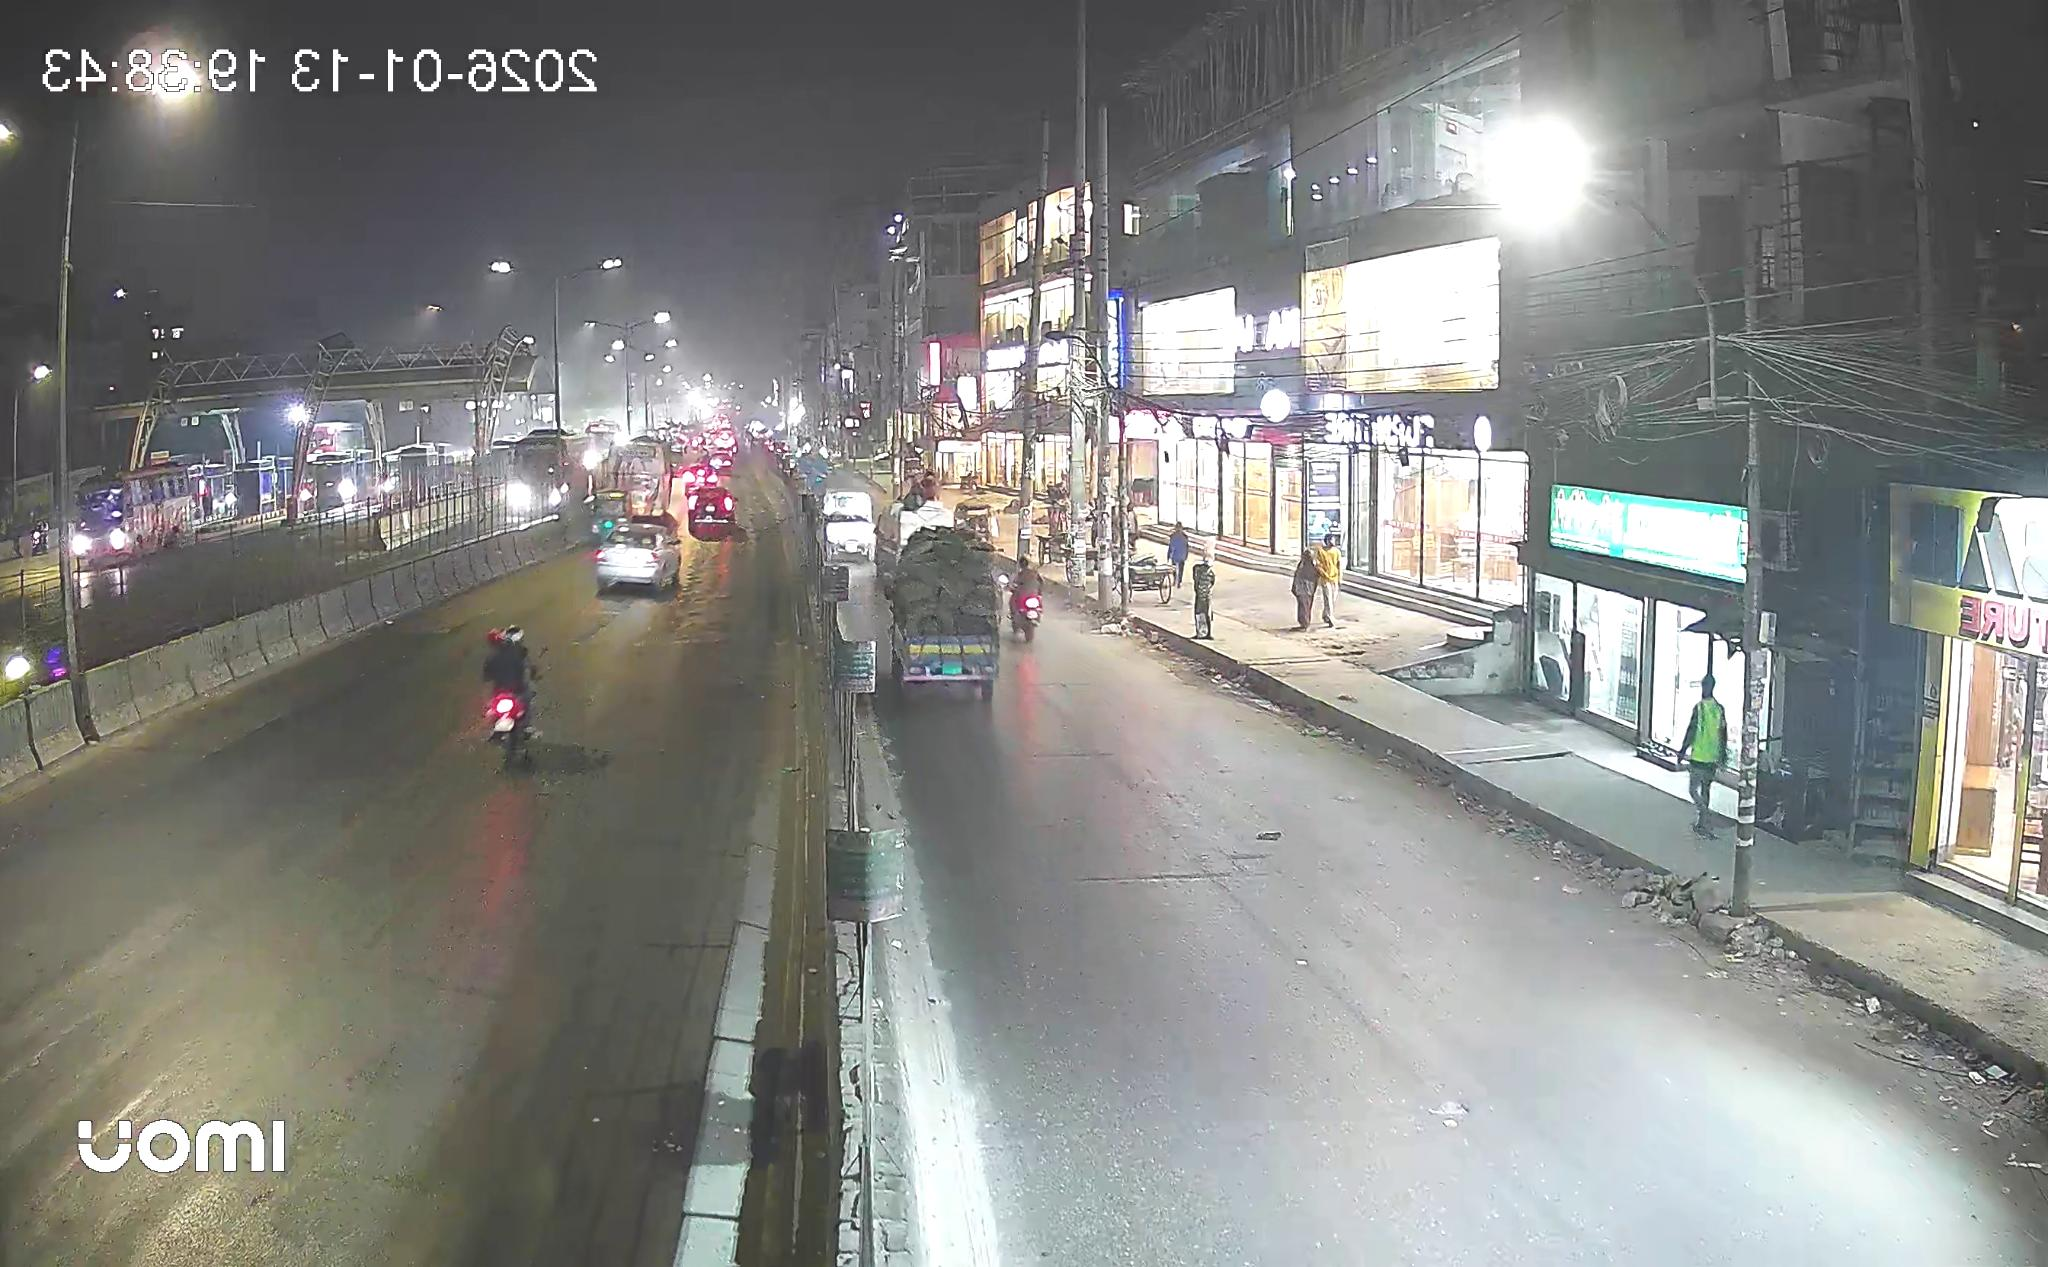Motorcycle: (484, 625, 537, 761), (1009, 563, 1042, 642)
Private-Sedan Car: (597, 521, 680, 594), (688, 486, 737, 541)
Truck: (882, 524, 1008, 702)
